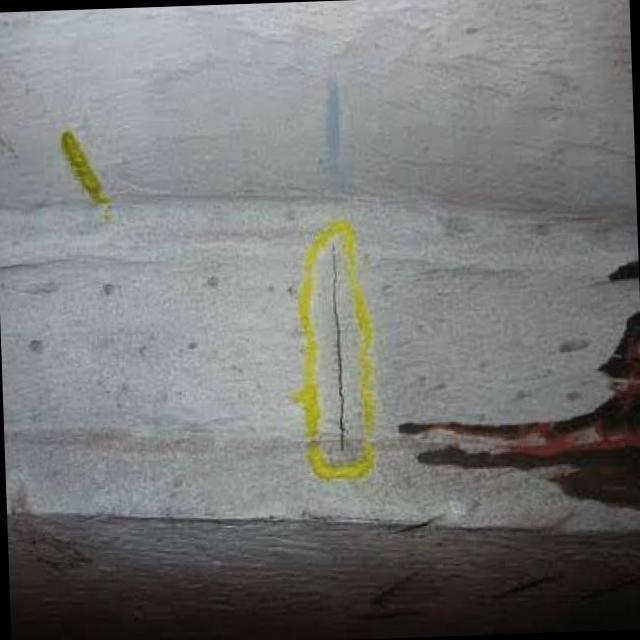defect: (326, 238, 351, 456)
